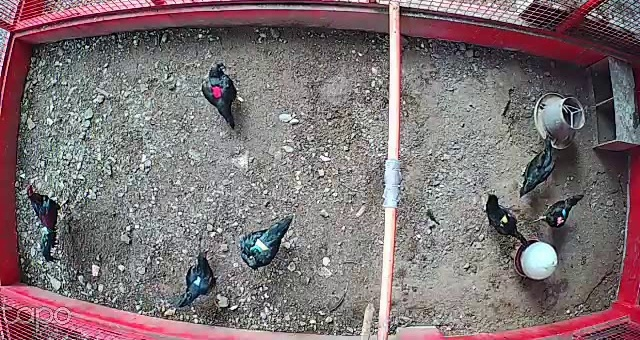Chicken: (200, 57, 244, 132), (239, 215, 298, 269), (175, 250, 224, 309), (480, 190, 529, 249), (517, 135, 559, 194), (533, 193, 583, 227)
Rooster: (23, 181, 71, 265)
Saddle_Color_Blue: (562, 210, 567, 217)
Saddle_Color_Red: (210, 86, 224, 99)
Saddle_Color_Yellow: (496, 214, 513, 226)
Saddle_Color_YellowGreen: (249, 238, 268, 255)
